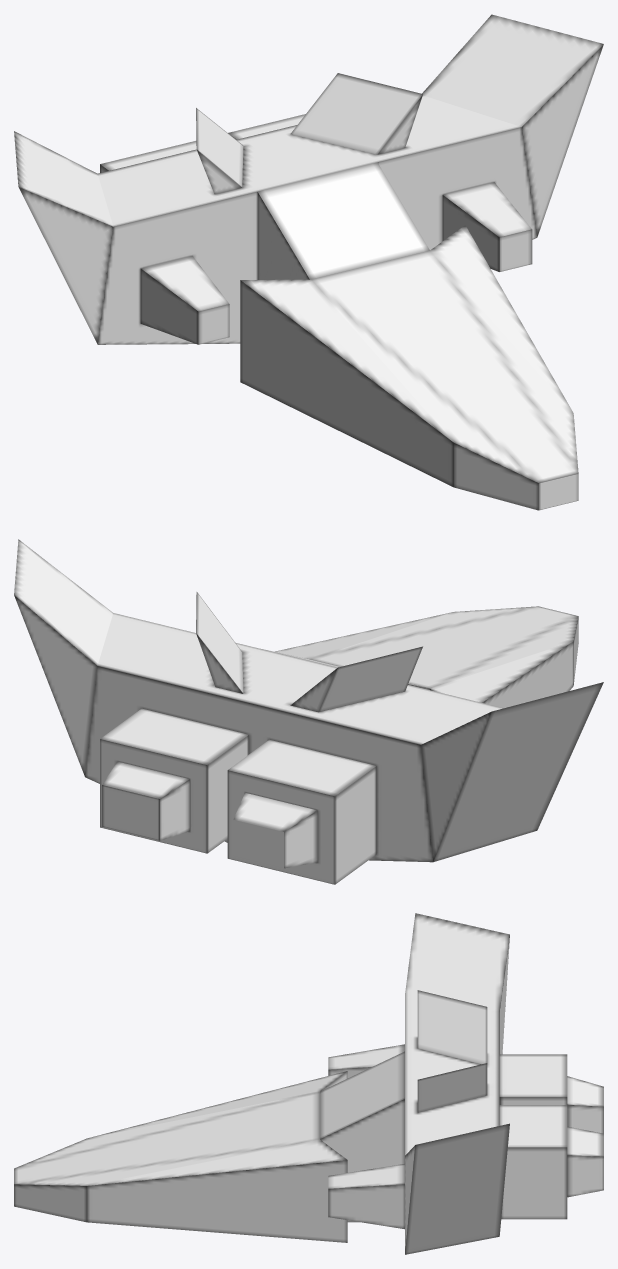
Rendered from Spaceship-01.fbx.
3 views of the same model, one above another, from view 1: azimuth 30°, elevation 25°; view 2: azimuth 150°, elevation 25°; view 3: azimuth 270°, elevation 25° (orthographic). The views are drawn at different scales.
Parts seen in each view (by area): view 1: Spaceship_01; view 2: Spaceship_01; view 3: Spaceship_01.
Boxes of the visible parts, bbox=[...] form: Spaceship_01: bbox=[14, 14, 603, 510]; Spaceship_01: bbox=[14, 539, 603, 884]; Spaceship_01: bbox=[14, 913, 603, 1254].
Size of the model in its own units: 2.13 by 0.7275 by 2.29.
